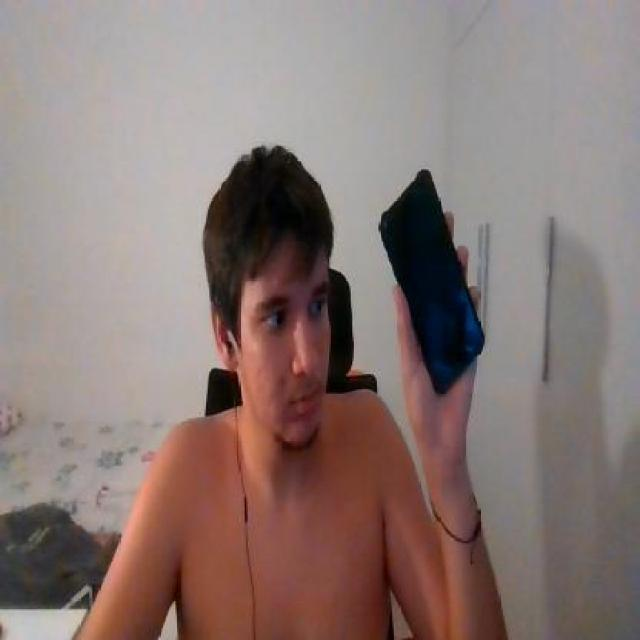phone: (378, 168, 486, 396)
